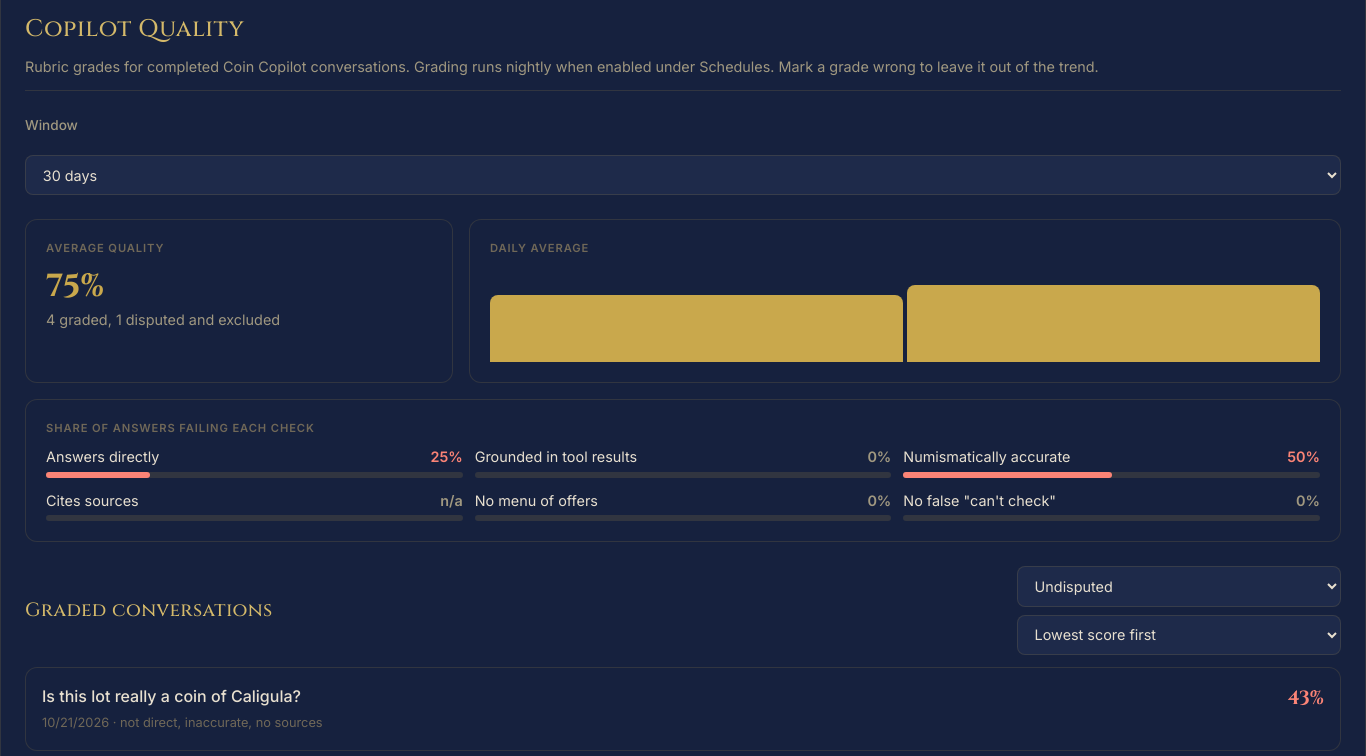
Test case: AdminCopilotQualitySection › marks a grade wrong with a note and refreshes the summary
Click the button at [171, 696], box [42,684,1324,734]
(page scrolled)
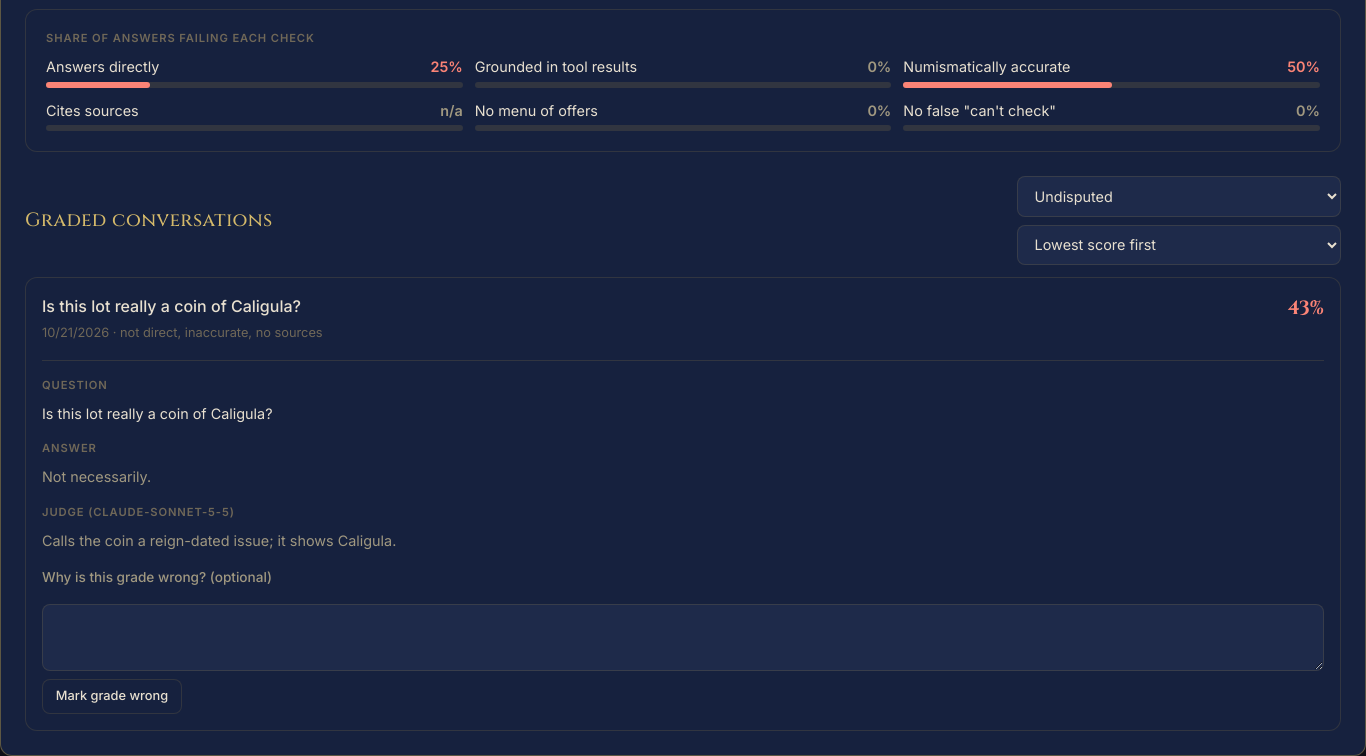
Check: the text "Calls the coin a reign-dated issue" is shown, box [42,532,396,549]
Type "Judge is right about RPC" into the text box labelled "Why is this grade wrong? (optional)" at [683, 637], box [42,604,1324,671]
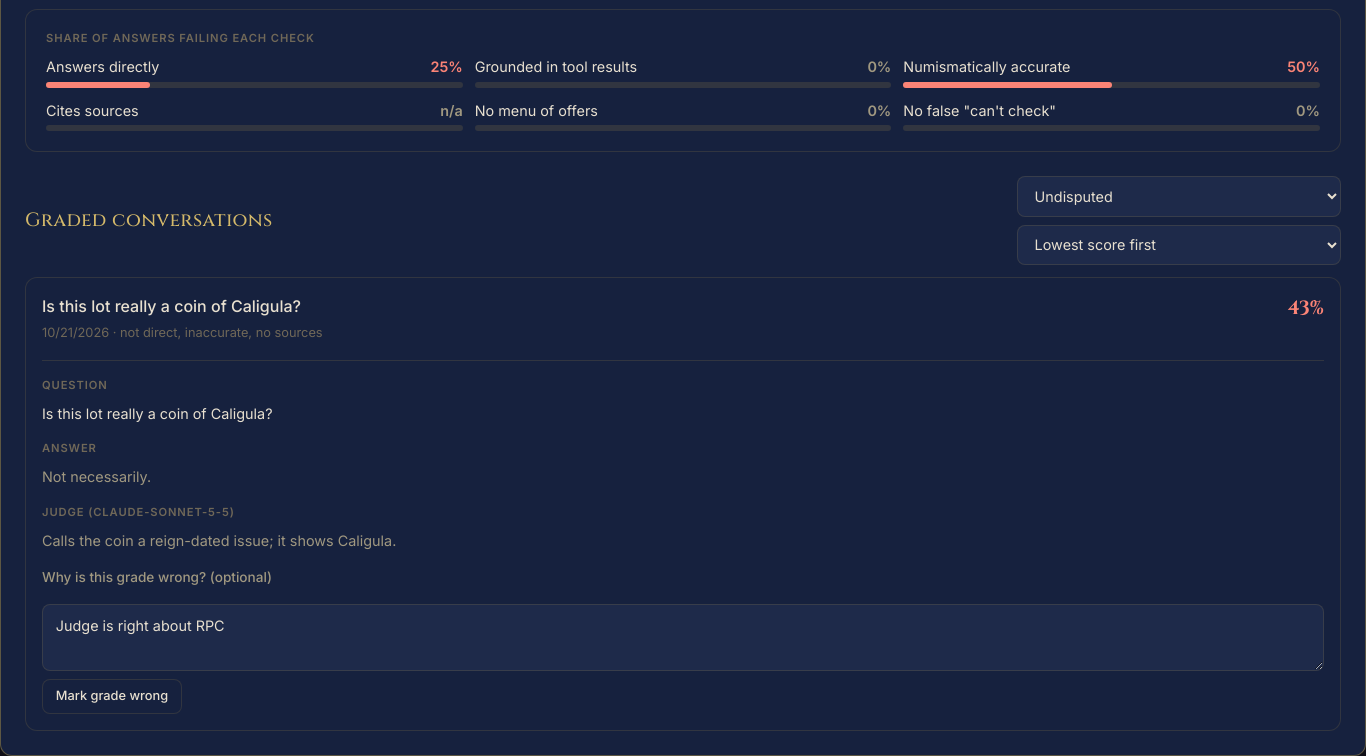
Click the button "Mark grade wrong" at [112, 696], box [42,679,182,714]
(page scrolled)
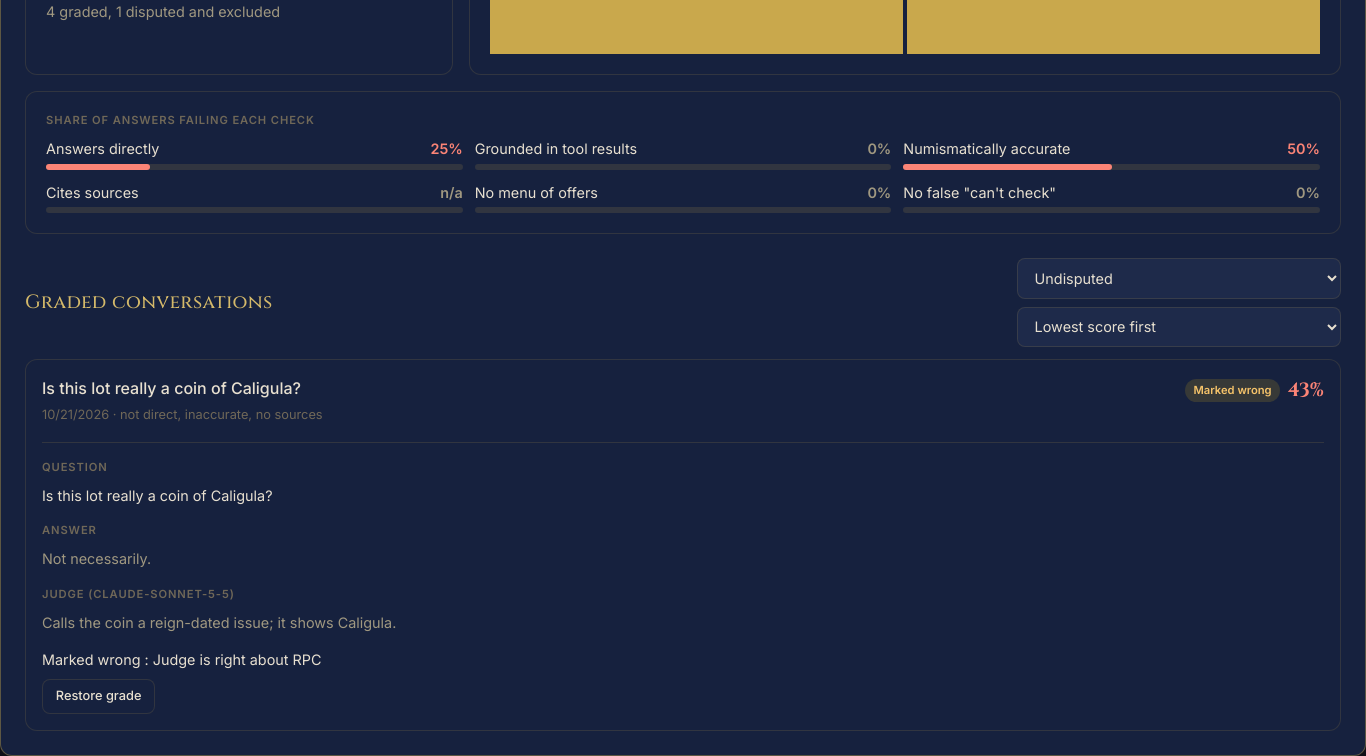
Check: the text "Marked wrong" is shown, box [1186,379,1280,402]
